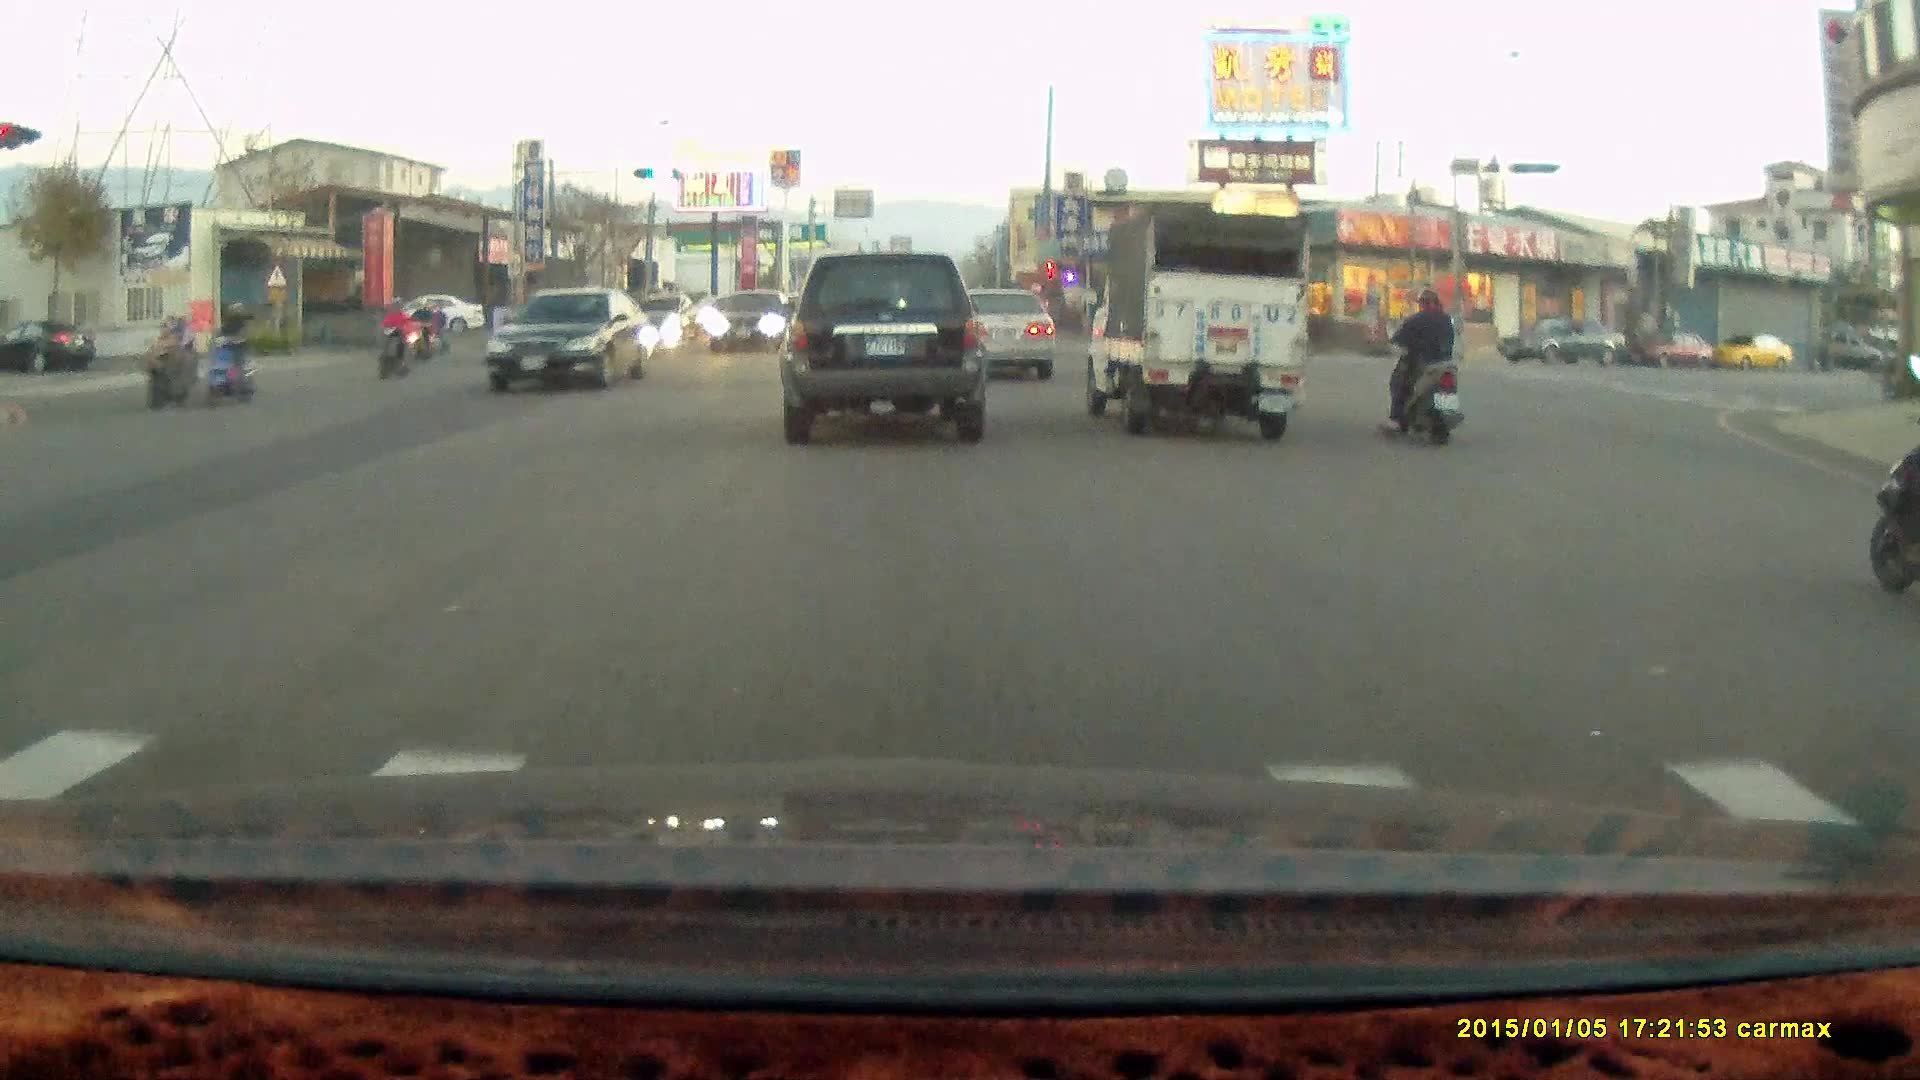rider: (1377, 283, 1464, 447), (1866, 405, 1920, 599), (137, 311, 203, 414), (193, 304, 255, 407), (371, 298, 419, 382)
vehicle: (1075, 207, 1308, 439), (777, 250, 986, 447), (491, 288, 661, 395), (938, 285, 1057, 382), (951, 287, 1061, 383), (1496, 317, 1632, 367), (705, 288, 799, 358), (394, 294, 488, 336), (1711, 331, 1797, 372), (1634, 333, 1718, 373)
